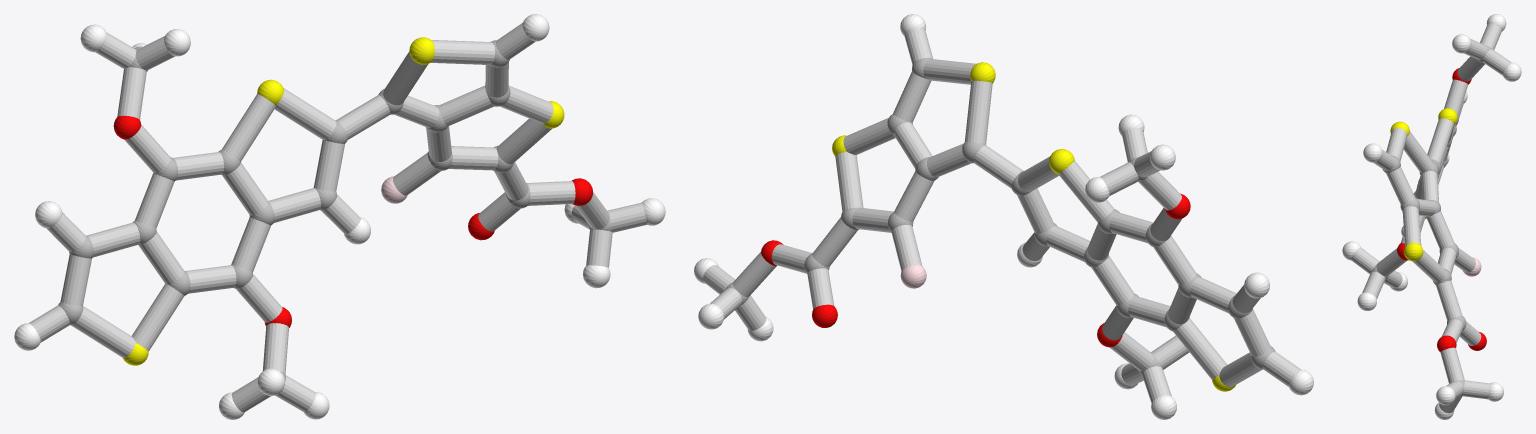
File: color.glb
The picture shows the model from 3 angles, left to right: view 1: azimuth 30°, elevation 25°; view 2: azimuth 150°, elevation 25°; view 3: azimuth 270°, elevation 25°; orthographic projection. The views are drawn at different scales.
Visible parts, largest first — view 1: grp15205, grp8689, grp1, grp7241, grp13395; view 2: grp15205, grp8689, grp1, grp13395, grp7241; view 3: grp15205, grp8689, grp1, grp7241, grp13395.
Boxes of the visible parts, bbox=[...] form: grp15205: bbox=[29, 23, 647, 412]; grp8689: bbox=[14, 14, 665, 419]; grp1: bbox=[58, 40, 612, 381]; grp7241: bbox=[123, 37, 564, 365]; grp13395: bbox=[113, 115, 592, 327]; grp15205: bbox=[703, 28, 1300, 402]; grp8689: bbox=[694, 14, 1313, 419]; grp1: bbox=[725, 57, 1275, 375]; grp13395: bbox=[761, 193, 1190, 347]; grp7241: bbox=[832, 62, 1235, 391]; grp15205: bbox=[1351, 23, 1511, 413]; grp8689: bbox=[1342, 14, 1521, 419]; grp1: bbox=[1371, 45, 1491, 396]; grp7241: bbox=[1390, 108, 1457, 261]; grp13395: bbox=[1397, 68, 1486, 351].
Size of the model in its own units: 16.3 by 8.56 by 5.51.
